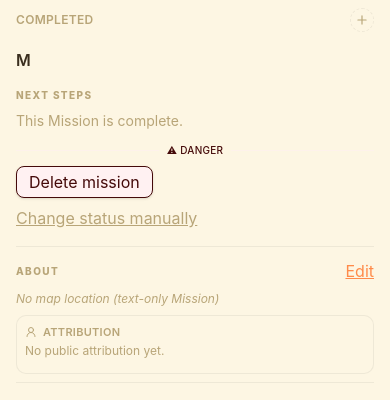
Test case: MissionDetailSheet — Delete on terminal statuses › opens the inline confirm panel when Delete mission is clicked on a completed mission
Click the button "Delete mission": click(84, 182) [16, 166, 153, 198]
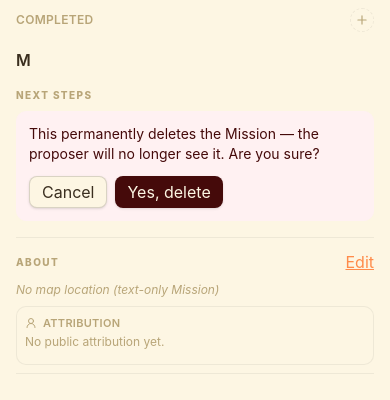
Expected: the button "Yes, delete" is shown, [116, 176, 223, 208]
